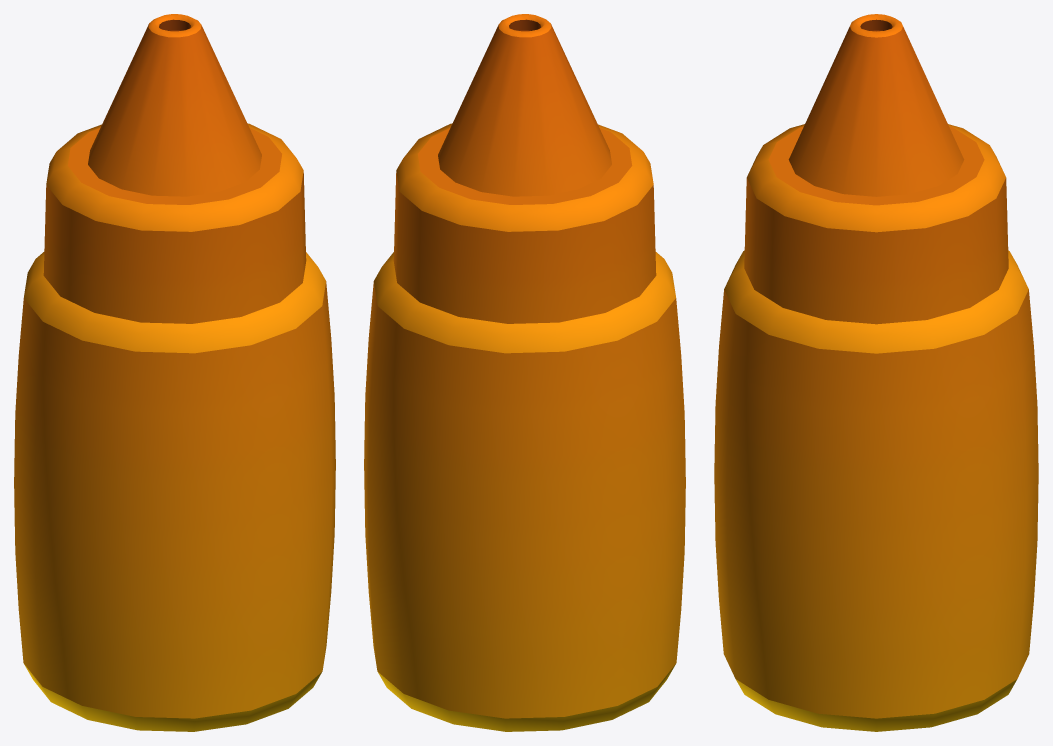
Rendered from Sauce_Mustard_V1_00.fbx.
3 views of the same model, side by side, from view 1: azimuth 30°, elevation 25°; view 2: azimuth 150°, elevation 25°; view 3: azimuth 270°, elevation 25° (orthographic).
Visible parts, largest first — view 1: Sauce_Mustard_V1_00; view 2: Sauce_Mustard_V1_00; view 3: Sauce_Mustard_V1_00.
Part boxes in pixels (x1=…): Sauce_Mustard_V1_00: x1=14, y1=14, x2=335, y2=731; Sauce_Mustard_V1_00: x1=364, y1=14, x2=685, y2=731; Sauce_Mustard_V1_00: x1=714, y1=14, x2=1038, y2=731.
Size of the model in its own units: 24.27 by 54.17 by 24.27.
